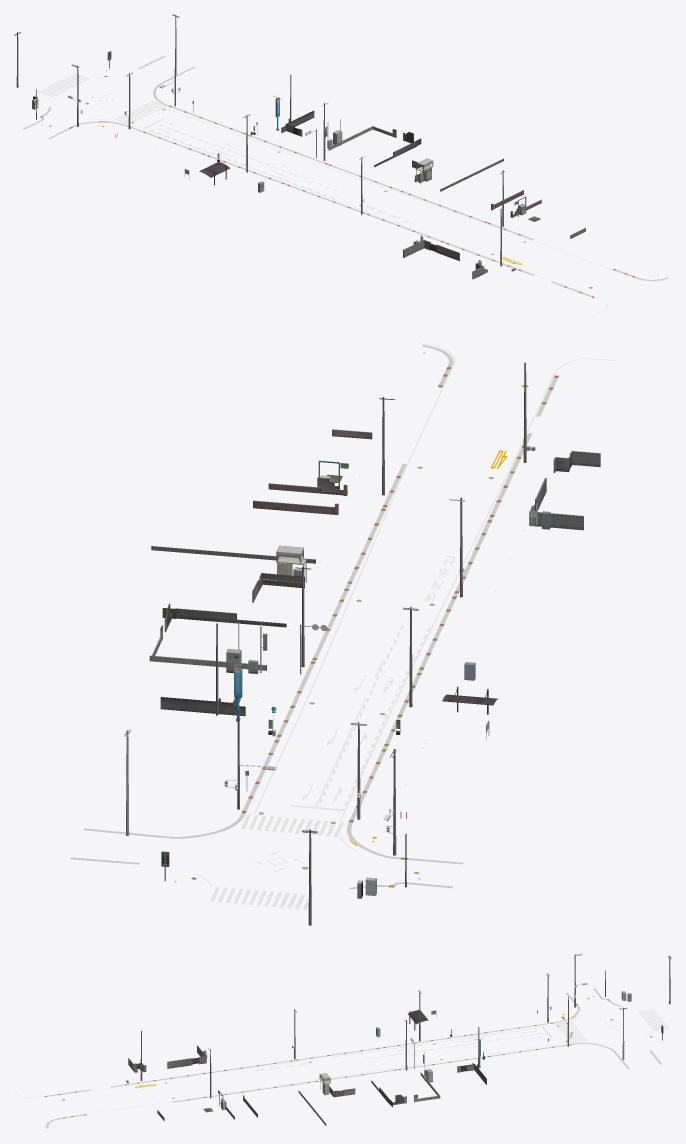
File: frn--6.glb
3 renders of one model, top to bottom at view 1: azimuth 30°, elevation 25°; view 2: azimuth 150°, elevation 25°; view 3: azimuth 270°, elevation 25°, orthographic. The views are drawn at different scales.
Bounding box in the file's own units: 77.06 × 13.45 × 151.
Materials: 3 (1 with a texture image).
